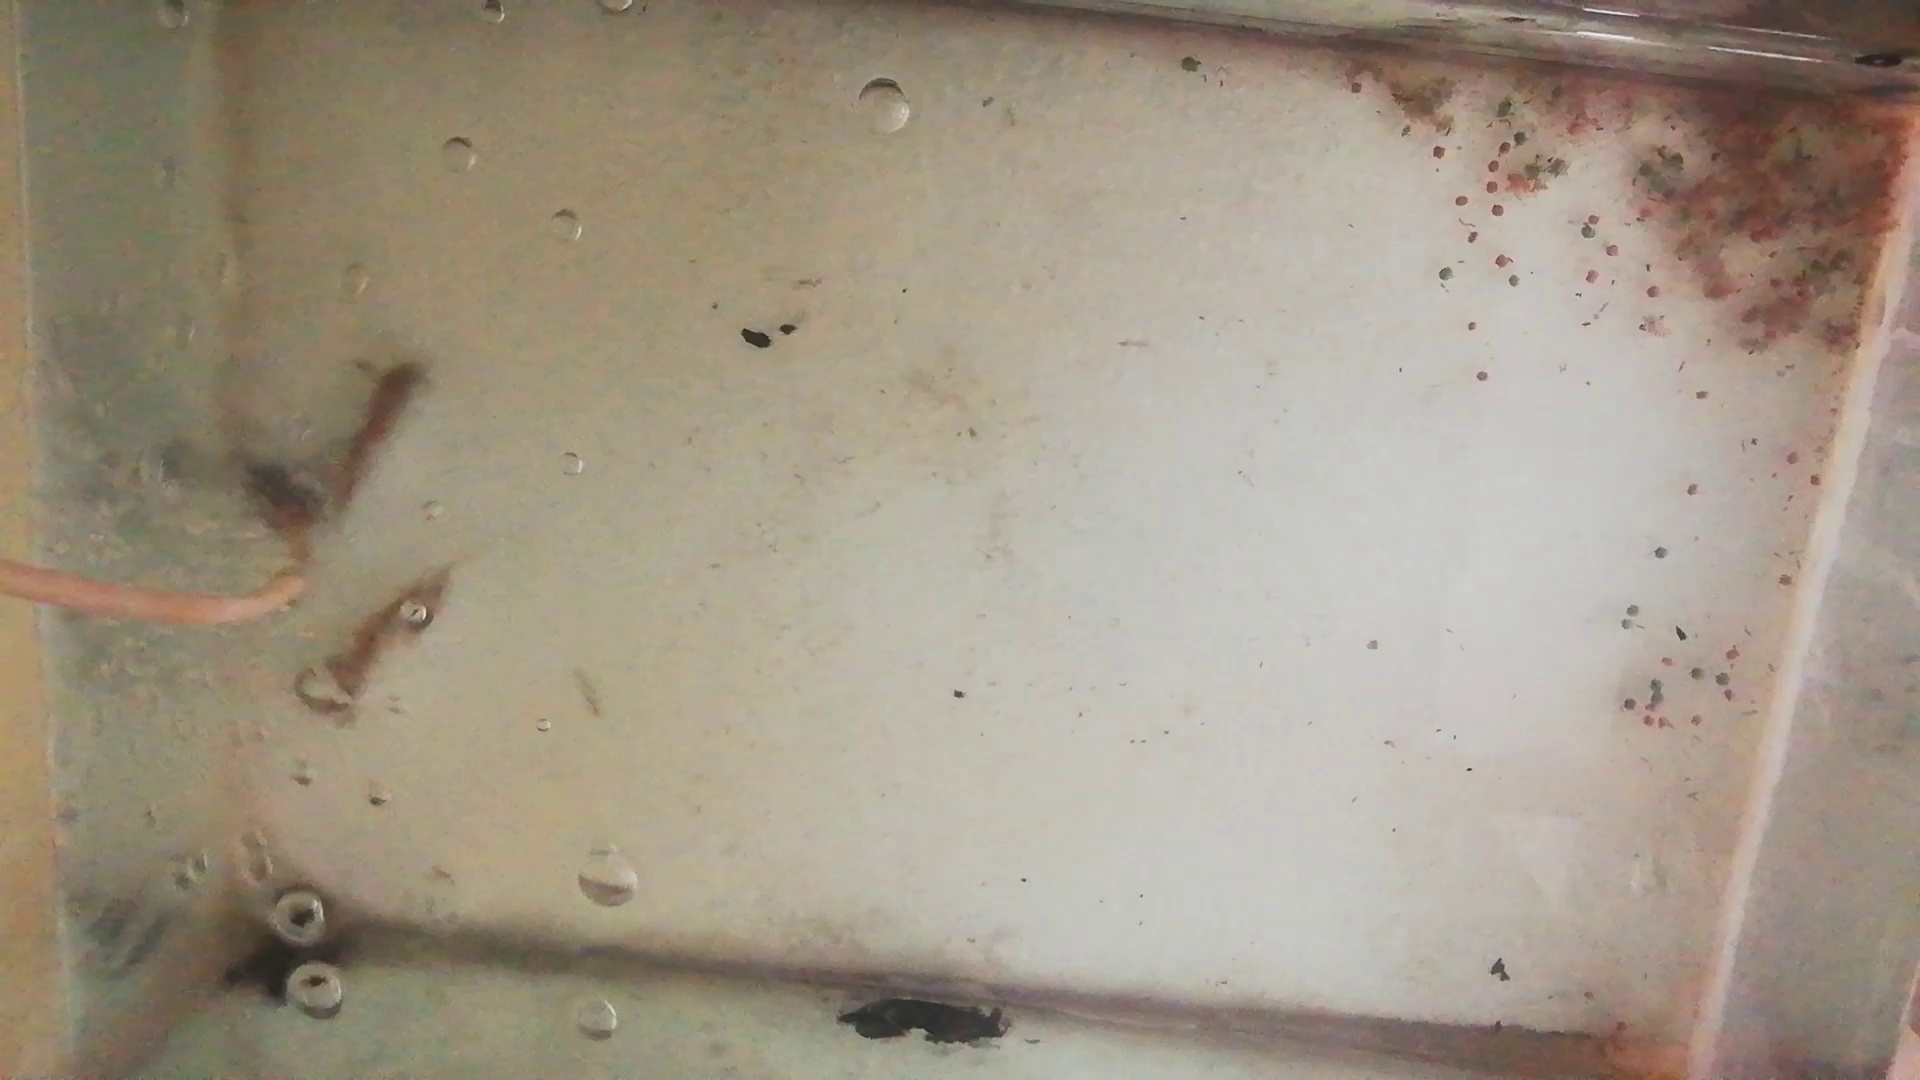fish: (301, 568, 451, 717), (323, 361, 433, 510)
